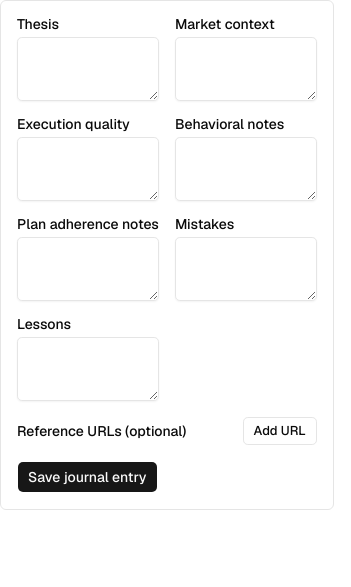
Test: JournalForm › shows a validation error and never submits when a reference URL row is left blank
Click the button "Add URL" at (280, 431), box [243, 417, 317, 445]
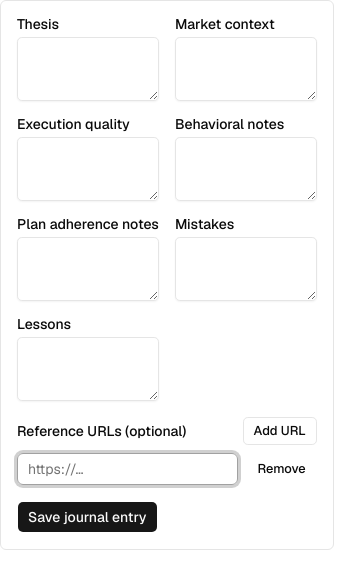
Click the button "Save journal entry" at (87, 517), box [17, 501, 158, 533]
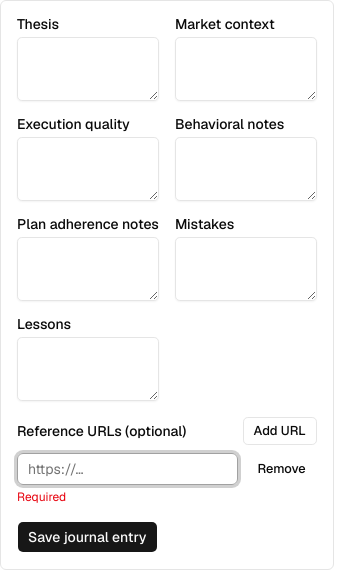
Result: the text "Required" is shown at [17, 489, 66, 505]
